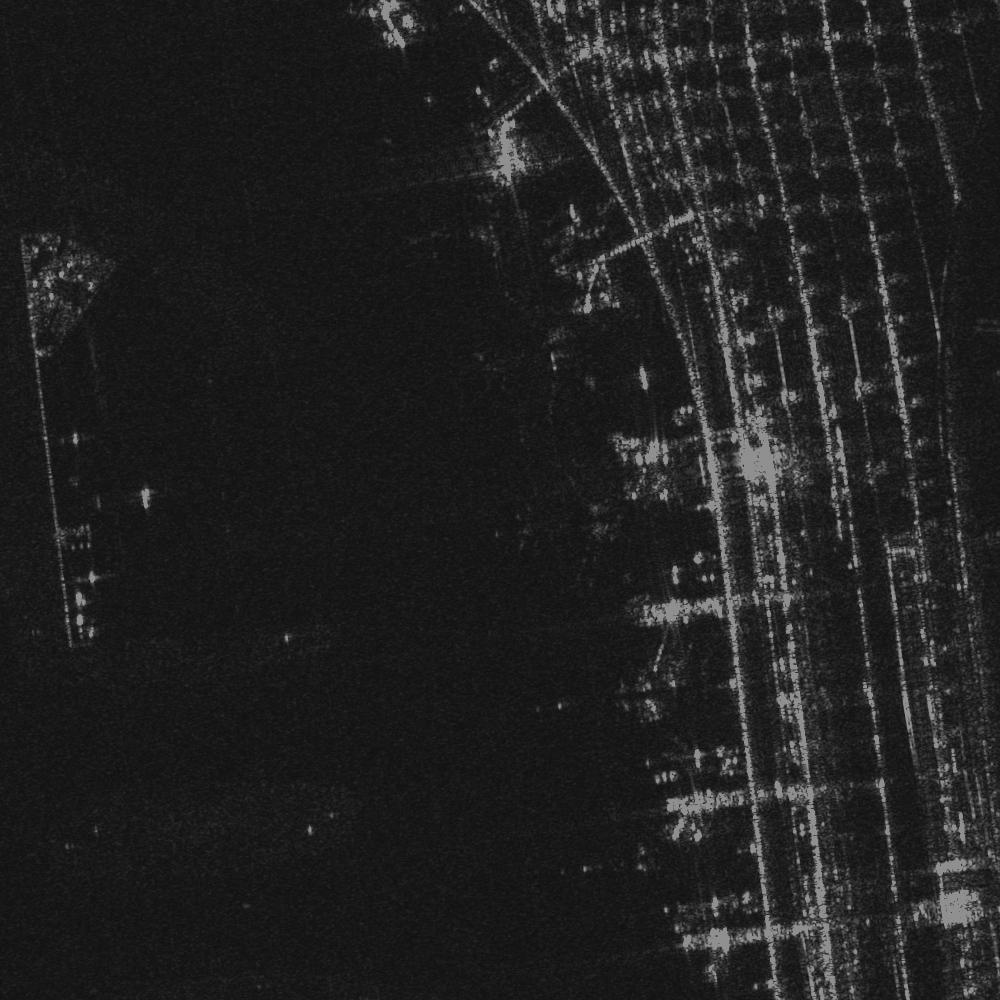Boeing787: (472, 292, 580, 423)
other: (516, 457, 624, 584), (413, 167, 519, 280)
